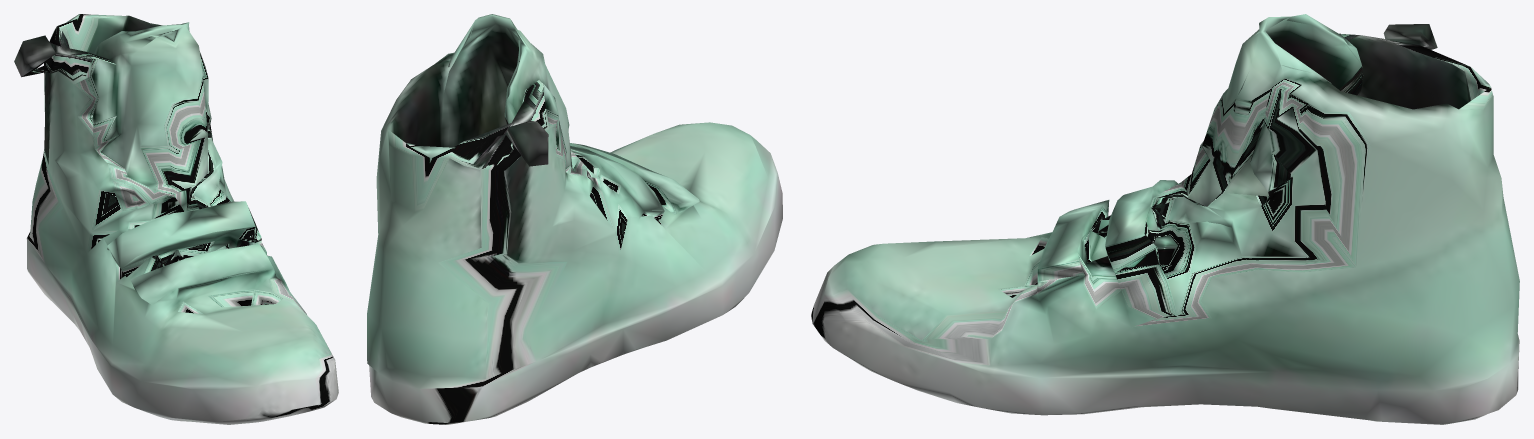
The model's file is gso_reebok_cl_dibello_ii.glb.
3 views of the same model, side by side, from view 1: azimuth 30°, elevation 25°; view 2: azimuth 150°, elevation 25°; view 3: azimuth 270°, elevation 25° (orthographic). The views are drawn at different scales.
Parts seen in each view (by area): view 1: z-up-to-y-up; view 2: z-up-to-y-up; view 3: z-up-to-y-up.
Part boxes in pixels (x1=…): z-up-to-y-up: x1=14, y1=14, x2=338, y2=424; z-up-to-y-up: x1=367, y1=14, x2=782, y2=424; z-up-to-y-up: x1=811, y1=14, x2=1519, y2=424.
Bounding box in the file's own units: 0.1112 × 0.1686 × 0.2847.
Materials: 1 (1 with a texture image).
